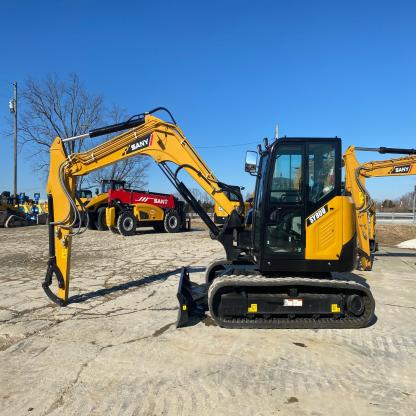excavator: (25, 85, 389, 342)
